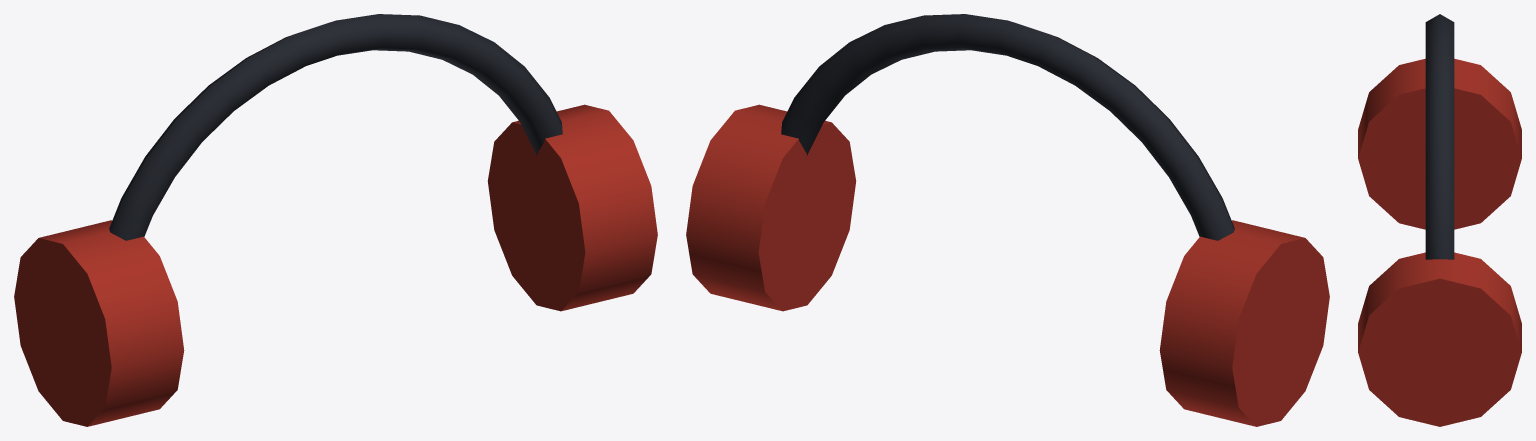
File: acc_headphones.glb
3 views of the same model, side by side, from view 1: azimuth 30°, elevation 25°; view 2: azimuth 150°, elevation 25°; view 3: azimuth 270°, elevation 25° (orthographic). The views are drawn at different scales.
Visible parts, largest first — view 1: acc.headphones; view 2: acc.headphones; view 3: acc.headphones.
Part boxes in pixels (x1=…): acc.headphones: x1=14, y1=14, x2=657, y2=426; acc.headphones: x1=686, y1=14, x2=1329, y2=426; acc.headphones: x1=1358, y1=14, x2=1521, y2=426.
Size of the model in its own units: 0.226 by 0.132 by 0.07.
